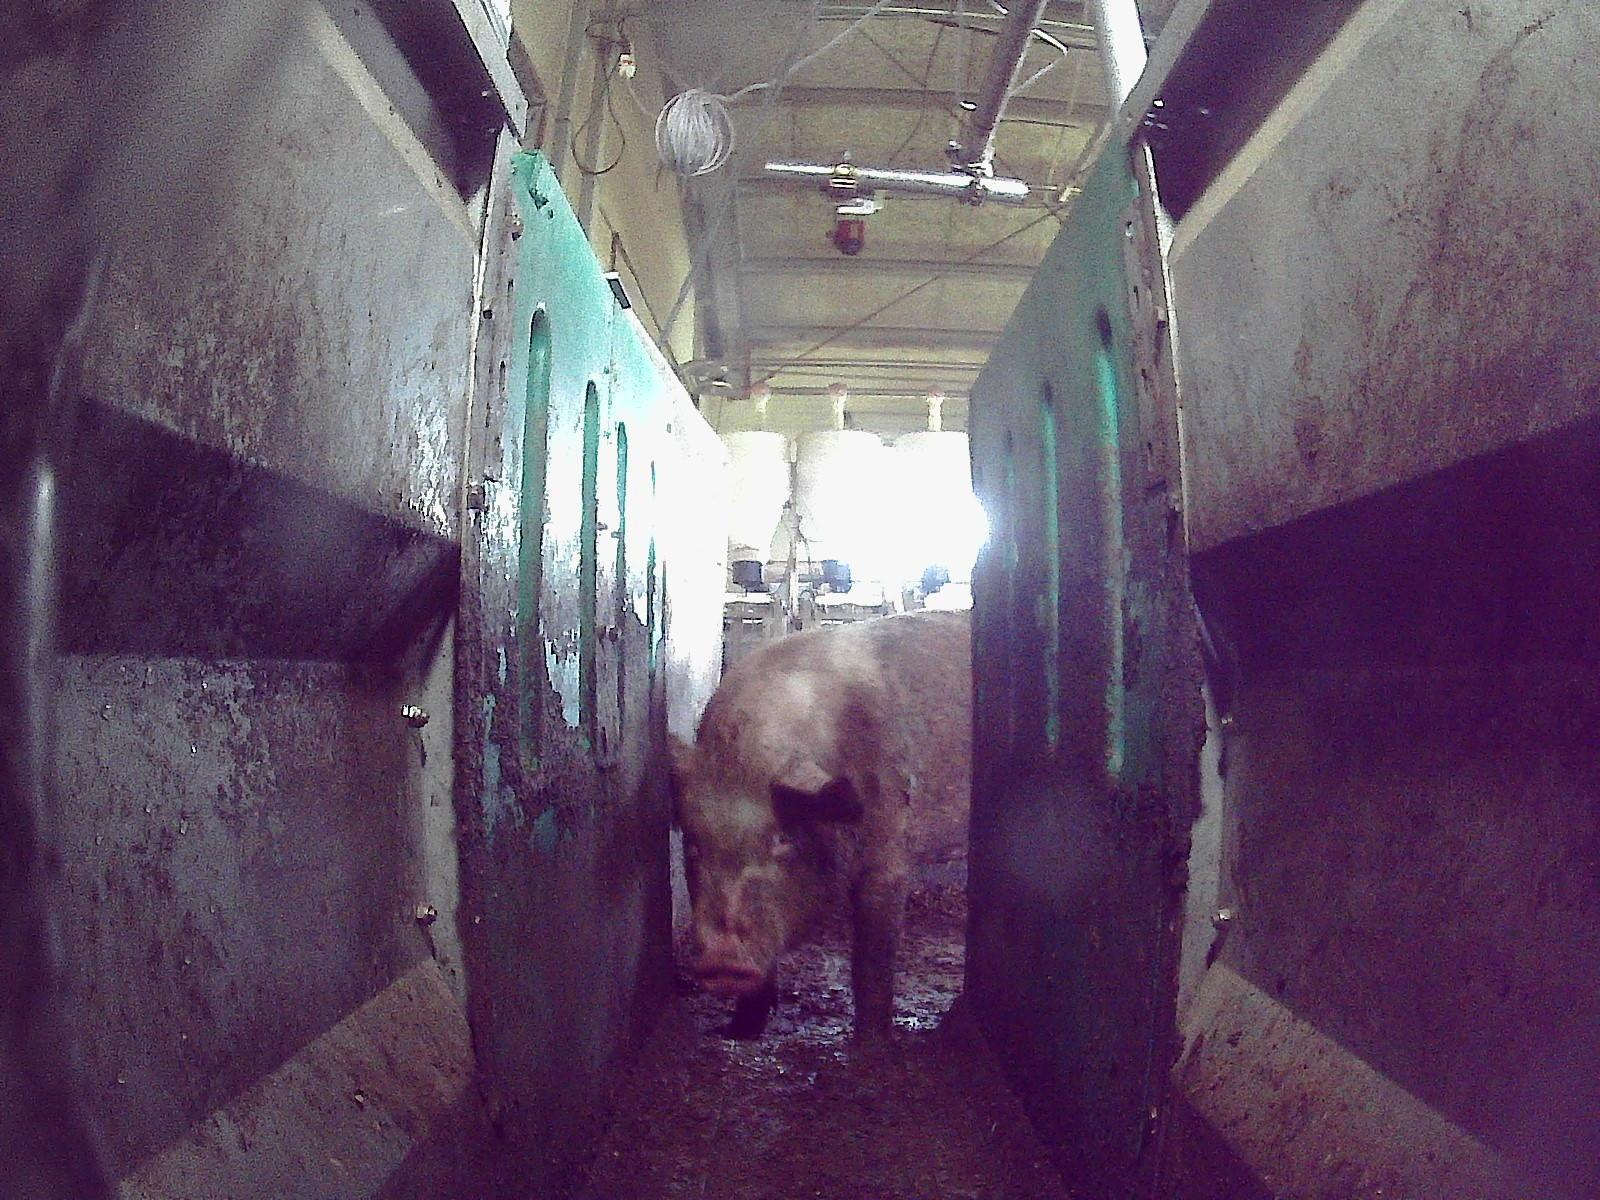Face: (674, 741, 857, 996)
